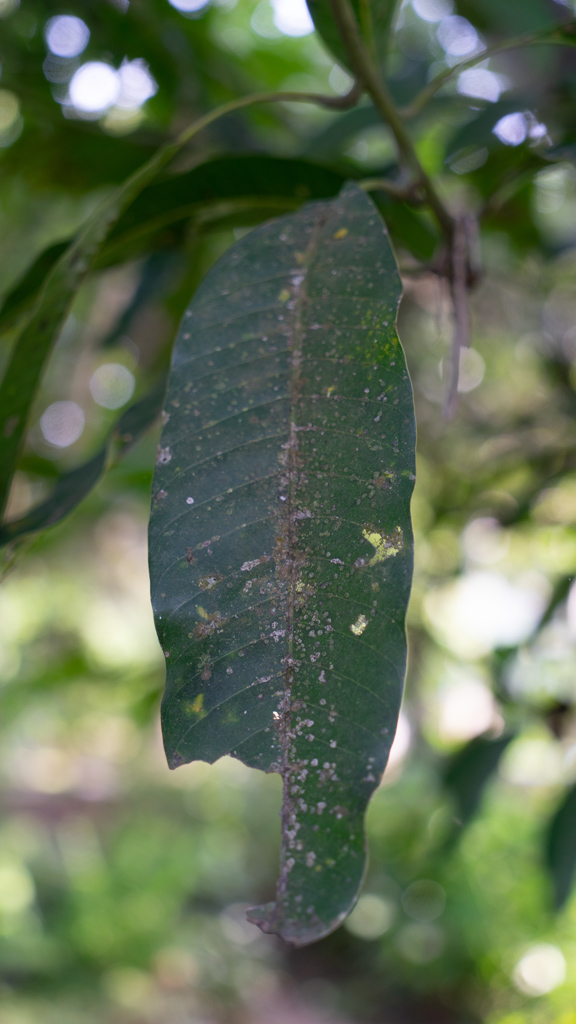Rust: (198, 209, 396, 946)
